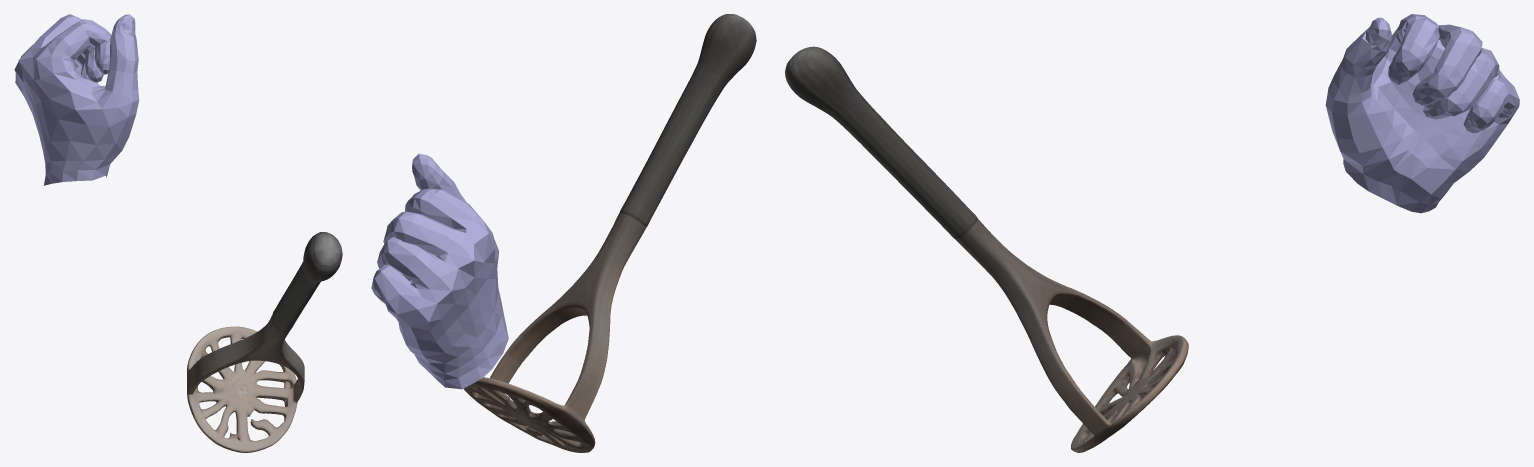
Rendered from frame_0045_source_000045_hand_object.glb.
3 renders of one model, left to right at view 1: azimuth 30°, elevation 25°; view 2: azimuth 150°, elevation 25°; view 3: azimuth 270°, elevation 25°, orthographic. The views are drawn at different scales.
Visible parts, largest first — view 1: world; view 2: world; view 3: world.
Boxes of the visible parts, x1,y1,x2,y2 form: world: (14,14,342,452); world: (371,14,756,452); world: (785,14,1519,452).
Size of the model in its own units: 0.1014 by 0.2406 by 0.3783.
